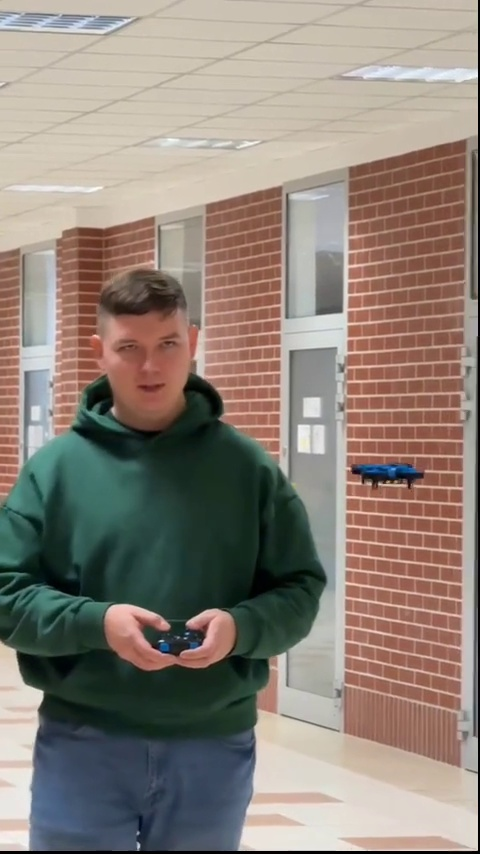drone: (343, 455, 425, 493)
no vest: (1, 274, 335, 833)
